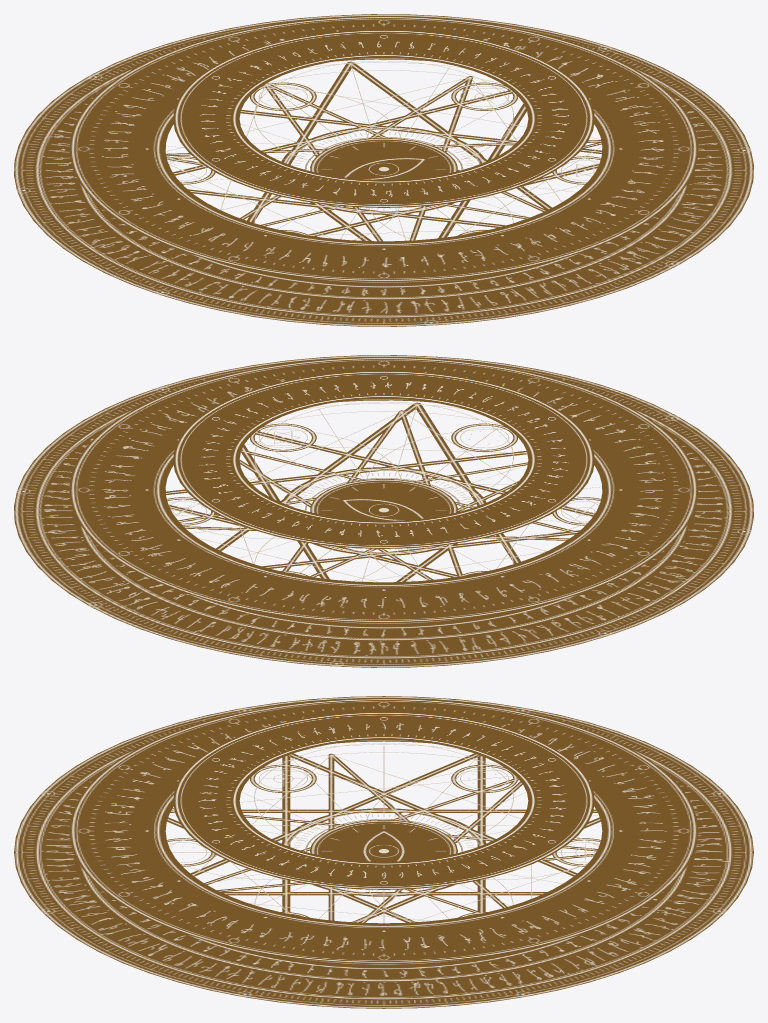
Rendered from 포탈_마법진_스토리.fbx.
3 renders of one model, top to bottom at view 1: azimuth 30°, elevation 25°; view 2: azimuth 150°, elevation 25°; view 3: azimuth 270°, elevation 25°, orthographic.
Parts seen in each view (by area): view 1: 마법진_떠있는고리_아래_회전_반시계, 마법진_바닥_문자띠_회전_시계, 마법진_떠있는고리_위_회전_시계, 마법진_바닥_기하_회전_반시계, 마법진_중심; view 2: 마법진_떠있는고리_아래_회전_반시계, 마법진_바닥_문자띠_회전_시계, 마법진_떠있는고리_위_회전_시계, 마법진_바닥_기하_회전_반시계, 마법진_중심; view 3: 마법진_떠있는고리_아래_회전_반시계, 마법진_바닥_문자띠_회전_시계, 마법진_떠있는고리_위_회전_시계, 마법진_바닥_기하_회전_반시계, 마법진_중심.
Part boxes in pixels (x1,y1,x2,y2): 마법진_떠있는고리_아래_회전_반시계: (69, 16, 698, 281); 마법진_바닥_문자띠_회전_시계: (14, 14, 753, 326); 마법진_떠있는고리_위_회전_시계: (173, 29, 594, 207); 마법진_바닥_기하_회전_반시계: (166, 60, 601, 241); 마법진_중심: (310, 138, 457, 179); 마법진_떠있는고리_아래_회전_반시계: (69, 357, 698, 622); 마법진_바닥_문자띠_회전_시계: (14, 355, 753, 667); 마법진_떠있는고리_위_회전_시계: (173, 370, 594, 548); 마법진_바닥_기하_회전_반시계: (166, 401, 601, 582); 마법진_중심: (310, 479, 457, 520); 마법진_떠있는고리_아래_회전_반시계: (69, 698, 698, 963); 마법진_바닥_문자띠_회전_시계: (14, 696, 753, 1008); 마법진_떠있는고리_위_회전_시계: (173, 711, 594, 889); 마법진_바닥_기하_회전_반시계: (167, 743, 600, 922); 마법진_중심: (310, 820, 457, 861).
Size of the model in its own units: 1000 by 77 by 1000.
5 materials, 5 textured.
